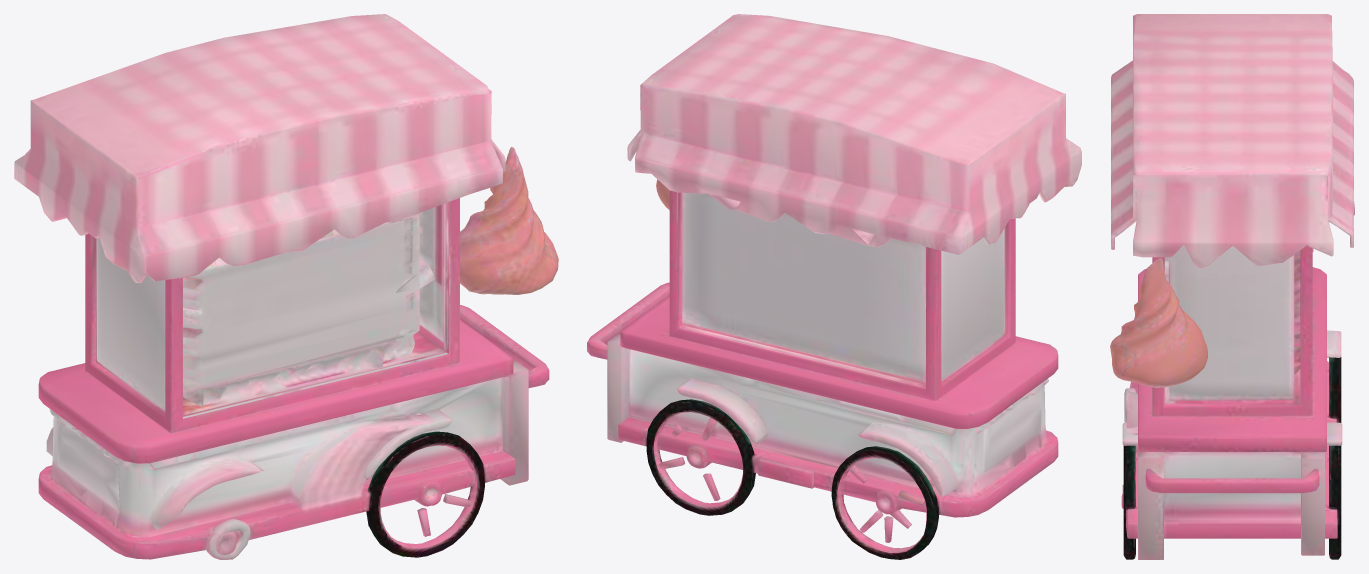
Rendered from icecreamstand.glb.
3 views of the same model, side by side, from view 1: azimuth 30°, elevation 25°; view 2: azimuth 150°, elevation 25°; view 3: azimuth 270°, elevation 25° (orthographic). The views are drawn at different scales.
Size of the model in its own units: 1.87 by 1.91 by 0.998.
1 material, 1 textured.
